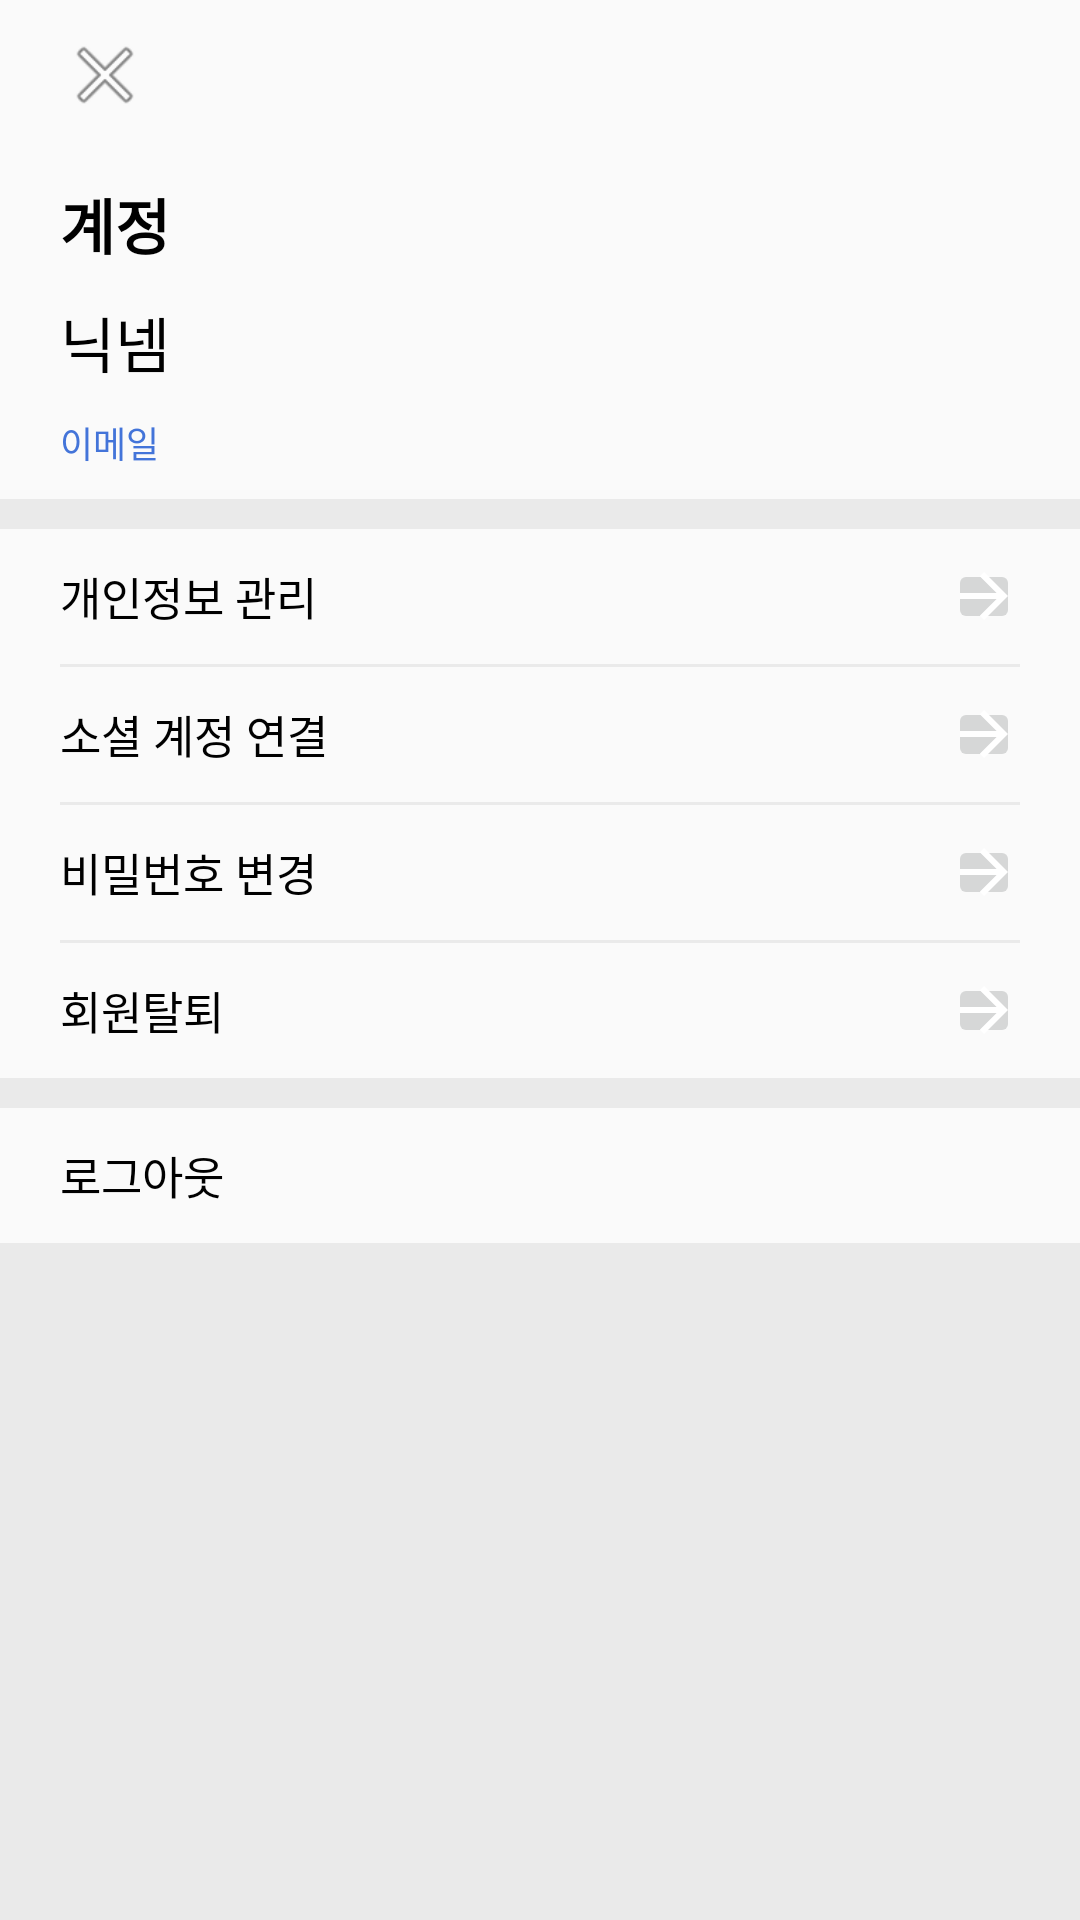

Icons on this 1080x1920 Android screen, each with the point to tap as [x,y]:
close clear cancel: [105,75]
